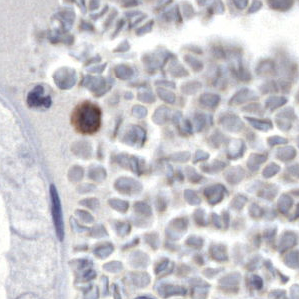Lymphocyte: (70, 100, 102, 132)
